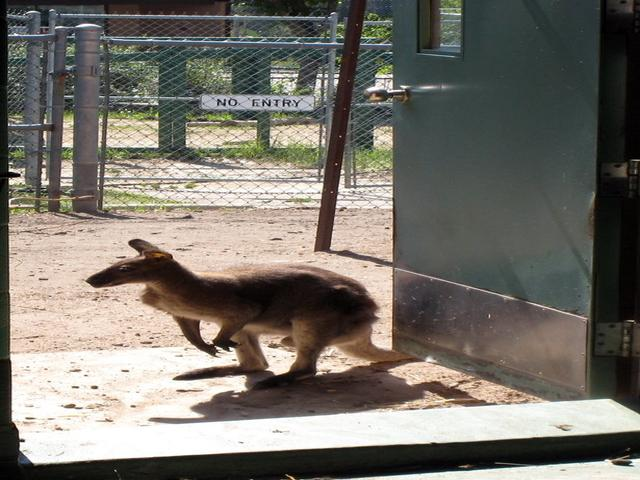kangaroo: (49, 199, 416, 393)
